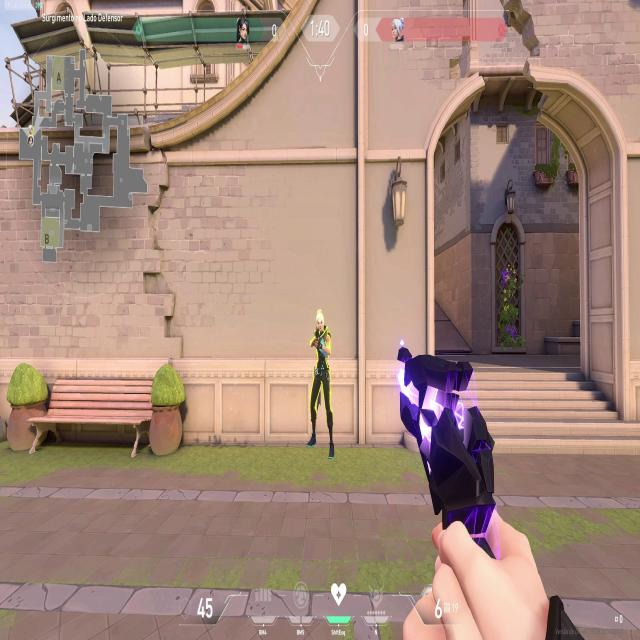head: (316, 309, 324, 334)
